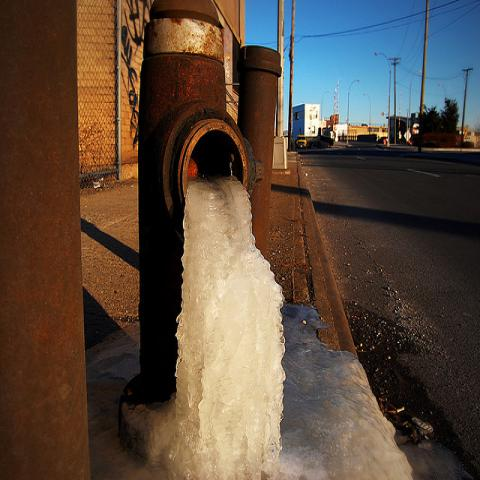car: (376, 136, 390, 147)
truck: (295, 134, 307, 150)
